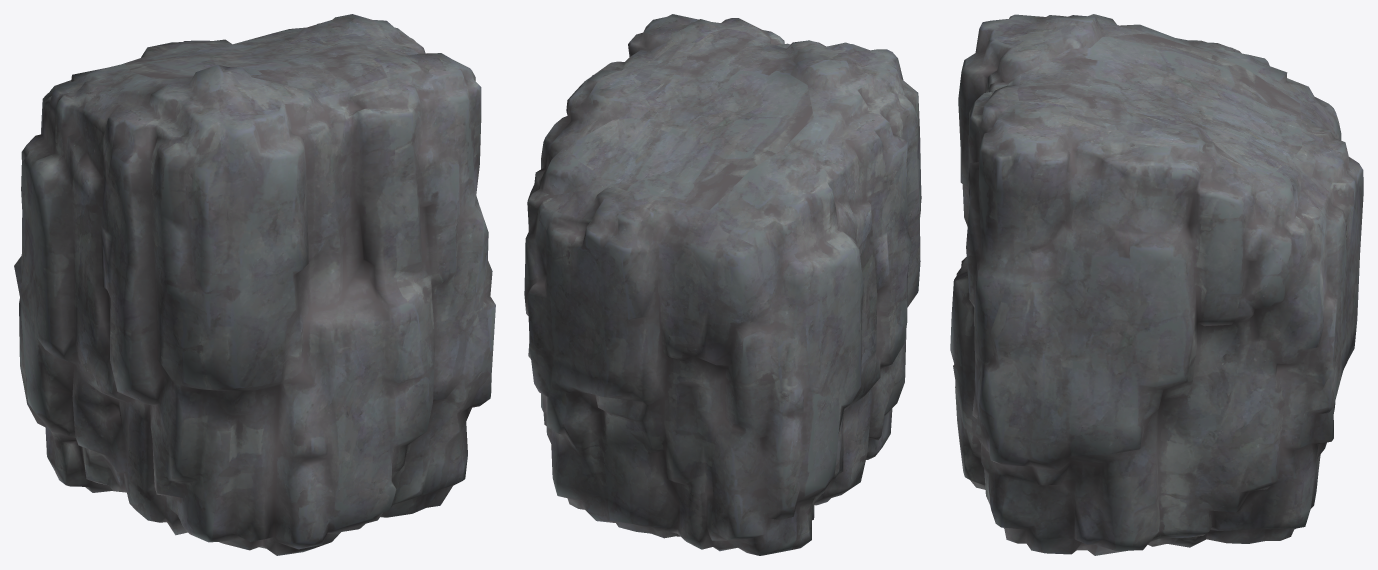
File: stone-10.fbx
The picture shows the model from 3 angles, left to right: view 1: azimuth 30°, elevation 25°; view 2: azimuth 150°, elevation 25°; view 3: azimuth 270°, elevation 25°; orthographic projection. The views are drawn at different scales.
Visible parts, largest first — view 1: Area_Ly_Stone_CSPY_Full_L_04_Lod0; view 2: Area_Ly_Stone_CSPY_Full_L_04_Lod0; view 3: Area_Ly_Stone_CSPY_Full_L_04_Lod0.
Boxes of the visible parts, x1,y1,x2,y2 form: Area_Ly_Stone_CSPY_Full_L_04_Lod0: (14,14,495,555); Area_Ly_Stone_CSPY_Full_L_04_Lod0: (524,14,921,555); Area_Ly_Stone_CSPY_Full_L_04_Lod0: (950,14,1363,555).
Size of the model in its own units: 3889 by 4931 by 4084.
1 material, 1 textured.
